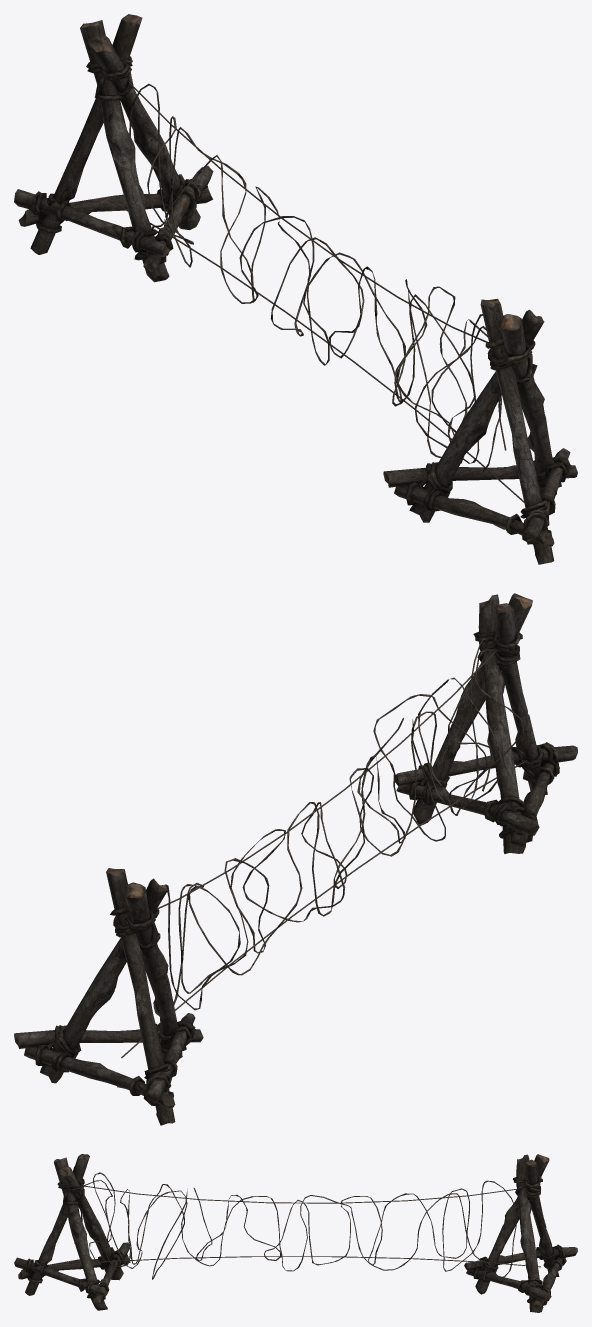
File: SM_BarbedWire_01.glb
3 views of the same model, one above another, from view 1: azimuth 30°, elevation 25°; view 2: azimuth 150°, elevation 25°; view 3: azimuth 270°, elevation 25° (orthographic). The views are drawn at different scales.
Visible parts, largest first — view 1: SM_BarbedWire_01; view 2: SM_BarbedWire_01; view 3: SM_BarbedWire_01.
Part boxes in pixels (x1,y1,x2,y2): SM_BarbedWire_01: (14,14,577,564); SM_BarbedWire_01: (14,593,577,1125); SM_BarbedWire_01: (14,1154,577,1312).
Bounding box in the file's own units: 0.8113 × 0.9772 × 3.66.
Materials: 1 (1 with a texture image).
